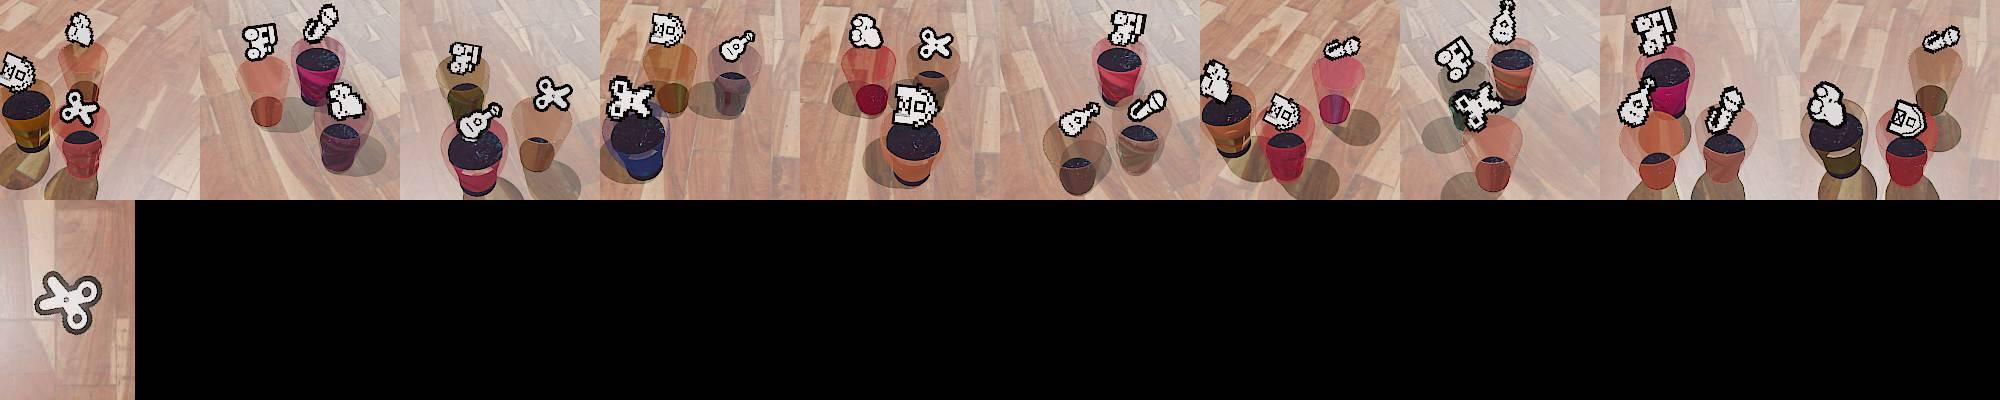icon: (35, 267, 103, 337), (1452, 81, 1505, 133), (1630, 5, 1678, 58), (605, 76, 657, 121), (1704, 84, 1745, 134), (1434, 35, 1476, 83), (893, 83, 938, 127), (458, 99, 505, 141), (1617, 79, 1656, 128), (326, 80, 368, 121), (1059, 99, 1102, 138), (1807, 81, 1845, 125), (58, 88, 100, 127), (1886, 97, 1926, 137), (533, 74, 574, 113), (0, 50, 37, 93), (302, 3, 340, 43), (241, 22, 278, 62), (1265, 92, 1302, 131), (1108, 9, 1147, 46), (1126, 89, 1167, 124), (1200, 58, 1231, 104), (649, 11, 687, 48), (717, 28, 757, 63), (848, 12, 884, 50), (916, 25, 954, 61), (1488, 0, 1517, 46), (448, 41, 483, 76), (1922, 25, 1961, 53), (65, 12, 94, 48), (1322, 35, 1361, 61)
